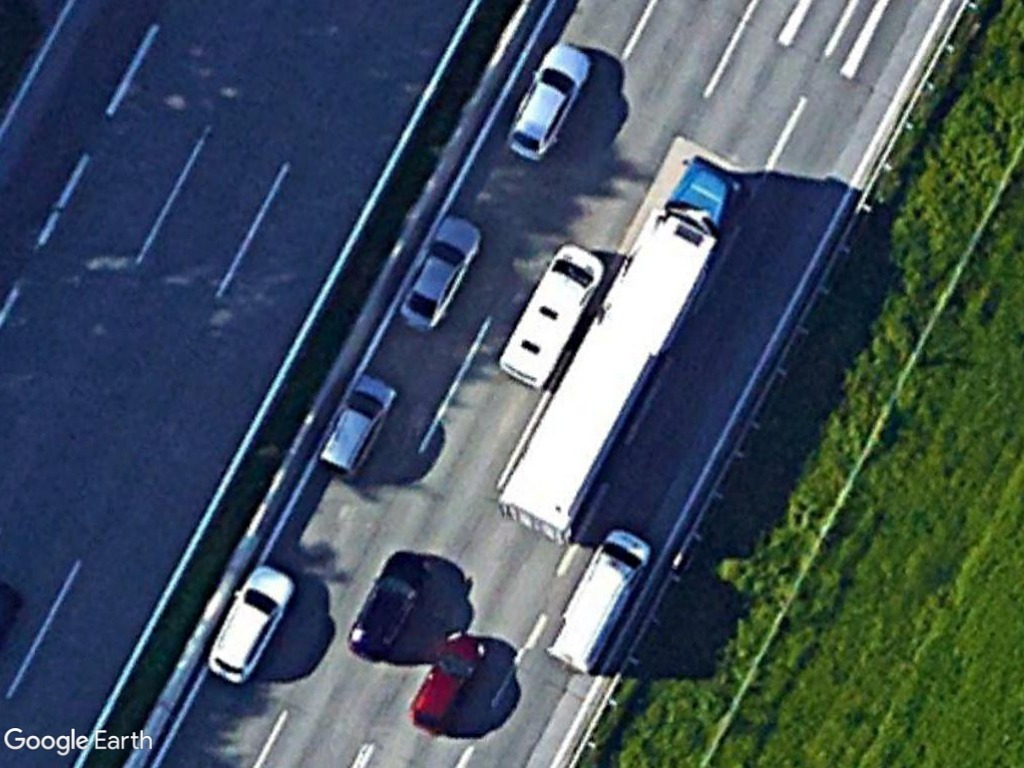car: (201, 560, 296, 689), (392, 210, 486, 335), (341, 546, 438, 667), (501, 37, 595, 160), (312, 367, 403, 480), (406, 623, 487, 737)
longvehicle: (495, 153, 746, 544)
van: (539, 522, 658, 678), (492, 239, 612, 392)
